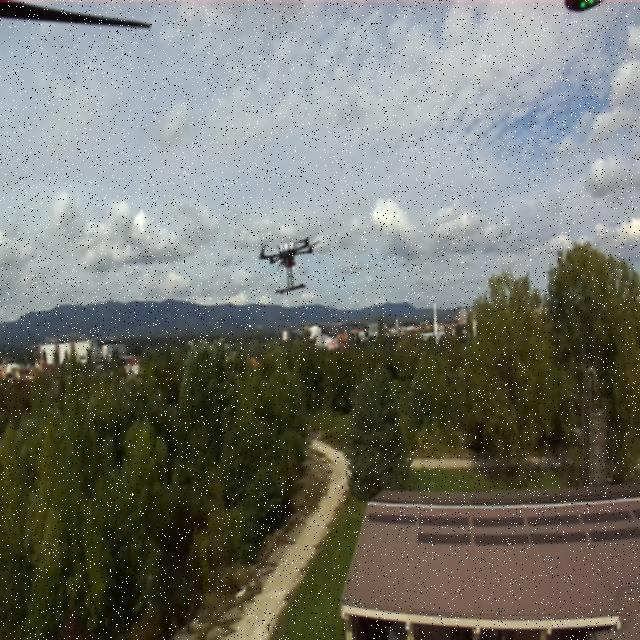UAV: (256, 228, 326, 300)
